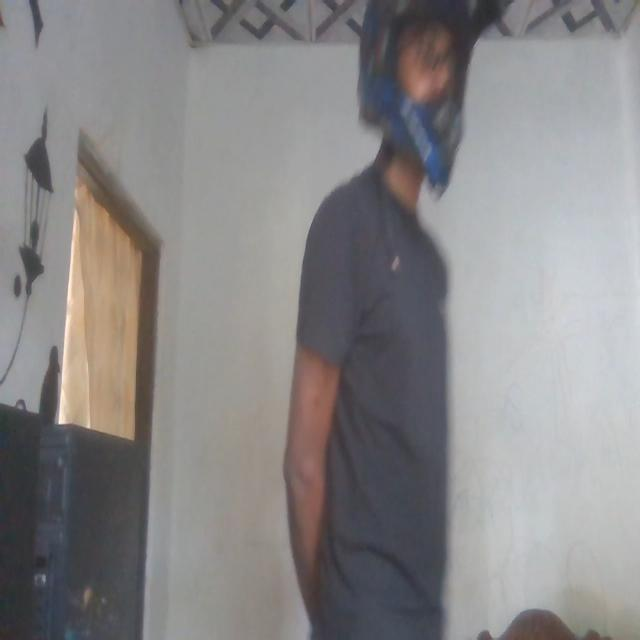Helmet_Wearer: (359, 0, 498, 196)
Person: (289, 0, 505, 638)
